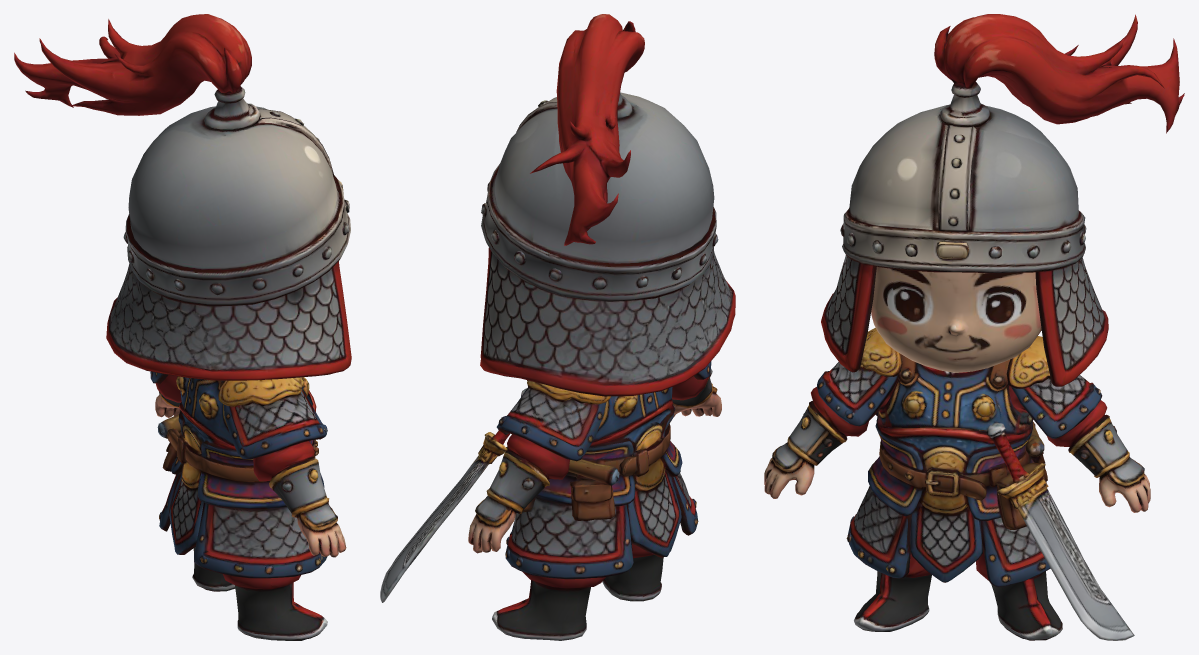
3 renders of one model, left to right at view 1: azimuth 30°, elevation 25°; view 2: azimuth 150°, elevation 25°; view 3: azimuth 270°, elevation 25°, orthographic. The views are drawn at different scales.
Parts seen in each view (by area): view 1: tripo_node_df3f1f36-08e6-40ee-a0d2-6479c1d18f53; view 2: tripo_node_df3f1f36-08e6-40ee-a0d2-6479c1d18f53; view 3: tripo_node_df3f1f36-08e6-40ee-a0d2-6479c1d18f53.
Boxes of the visible parts, x1,y1,x2,y2 form: tripo_node_df3f1f36-08e6-40ee-a0d2-6479c1d18f53: (14, 14, 351, 640); tripo_node_df3f1f36-08e6-40ee-a0d2-6479c1d18f53: (380, 14, 735, 640); tripo_node_df3f1f36-08e6-40ee-a0d2-6479c1d18f53: (764, 14, 1184, 640).
Size of the model in its own units: 0.4709 by 1 by 0.6433.
1 material, 1 textured.
